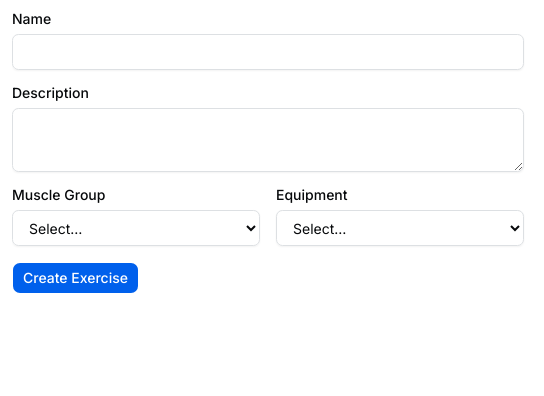
Test: CreateExerciseForm › createExerciseForm_nameTooShort_showsOnlyNameErrorAndDoesNotCallCreate
This screenshot has width=544, height=396.
Type "Bench" into the field labelled "Name". click: (268, 52)
box: [12,34,524,70]
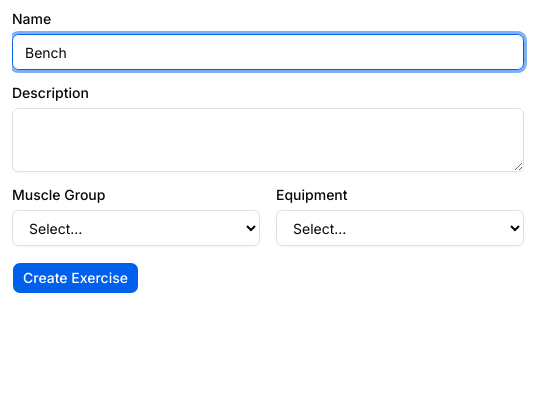
Type "A controlled chest press." into the text box labelled "Description". click: (268, 140)
box: [12,108,524,172]
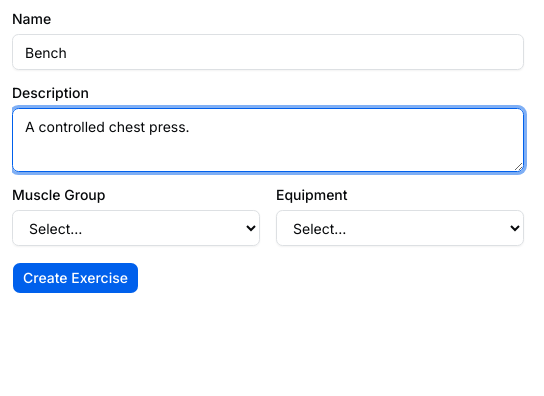
Select "CHEST" in the dropdown labelled "Muscle Group". click: (136, 228)
box: [12,210,260,246]
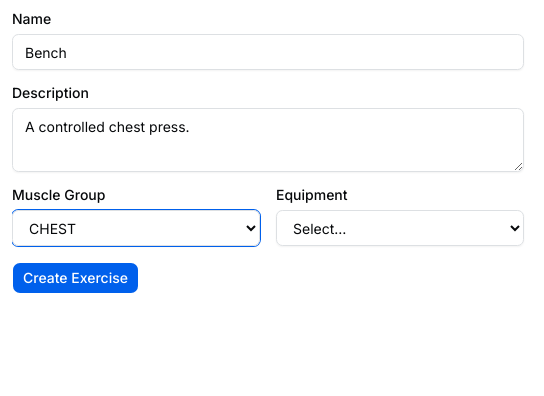
Select "BARBELL" in the dropdown labelled "Equipment". click: (400, 228)
box: [276,210,524,246]
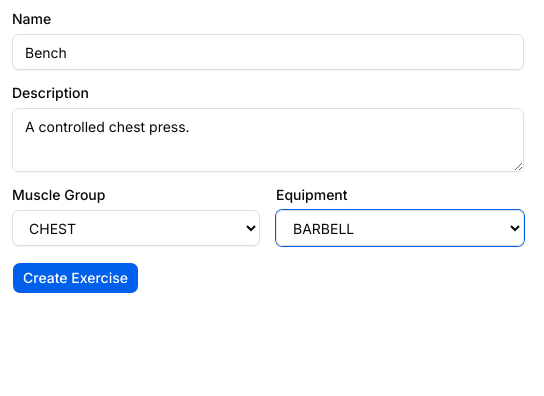
Click the button "Create Exercise". click: (76, 278)
box: [12,262,139,294]
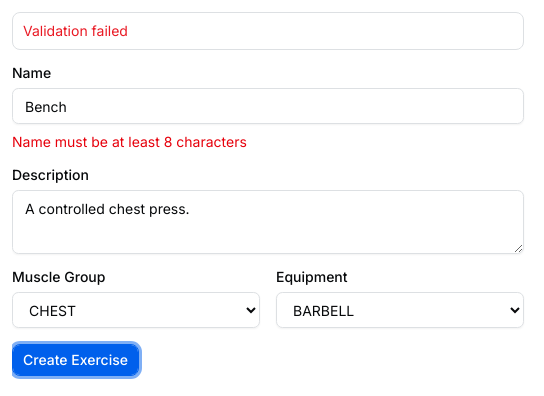
Check: the text "Name must be at least 8 characters" is shown, box [12,133,247,150]
